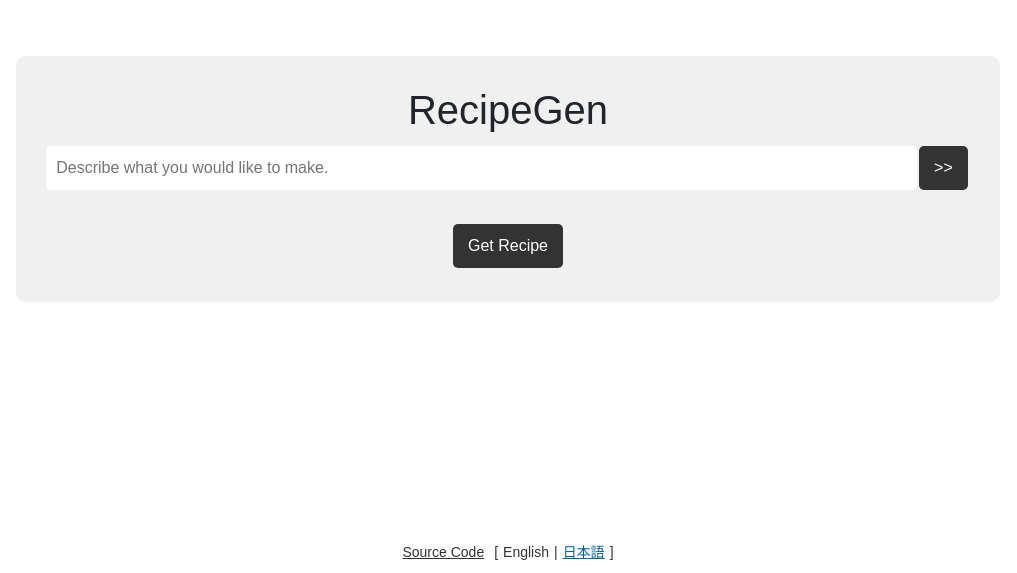
App › renders error message when recipeResponse contains error message
The width and height of the screenshot is (1017, 573).
Step 1. Click the button "Get Recipe" → (508, 246), box [453, 224, 563, 268]
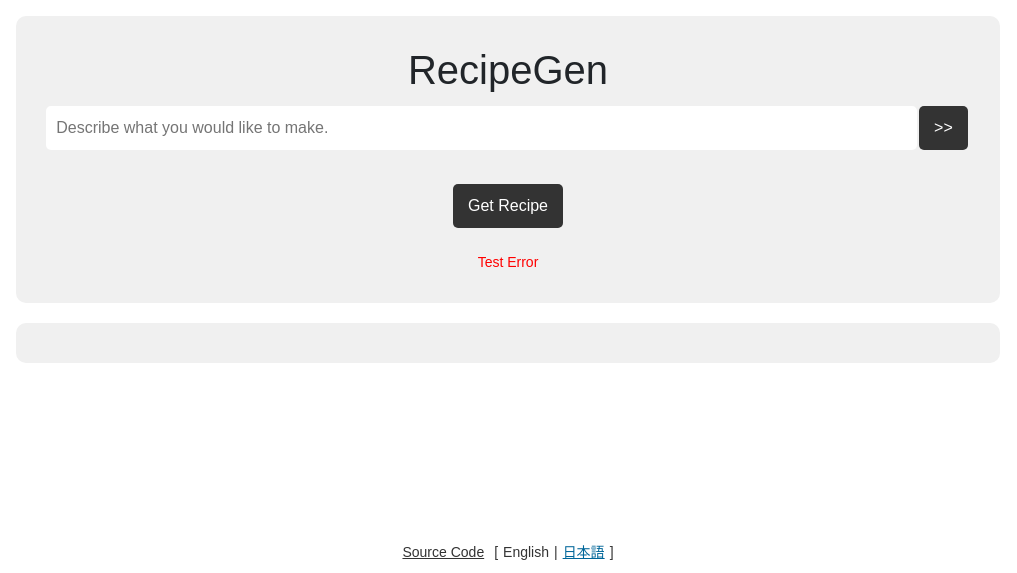
Expected: the text "Test Error" is shown, [478, 254, 538, 270]
